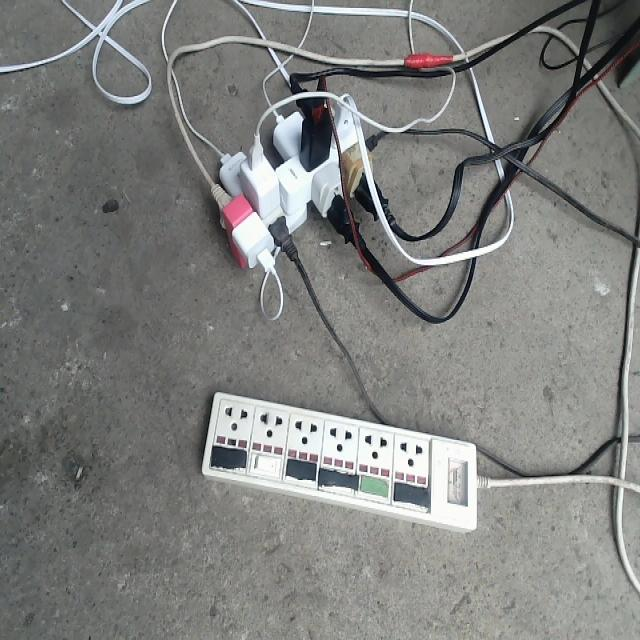-: (211, 84, 384, 272)
